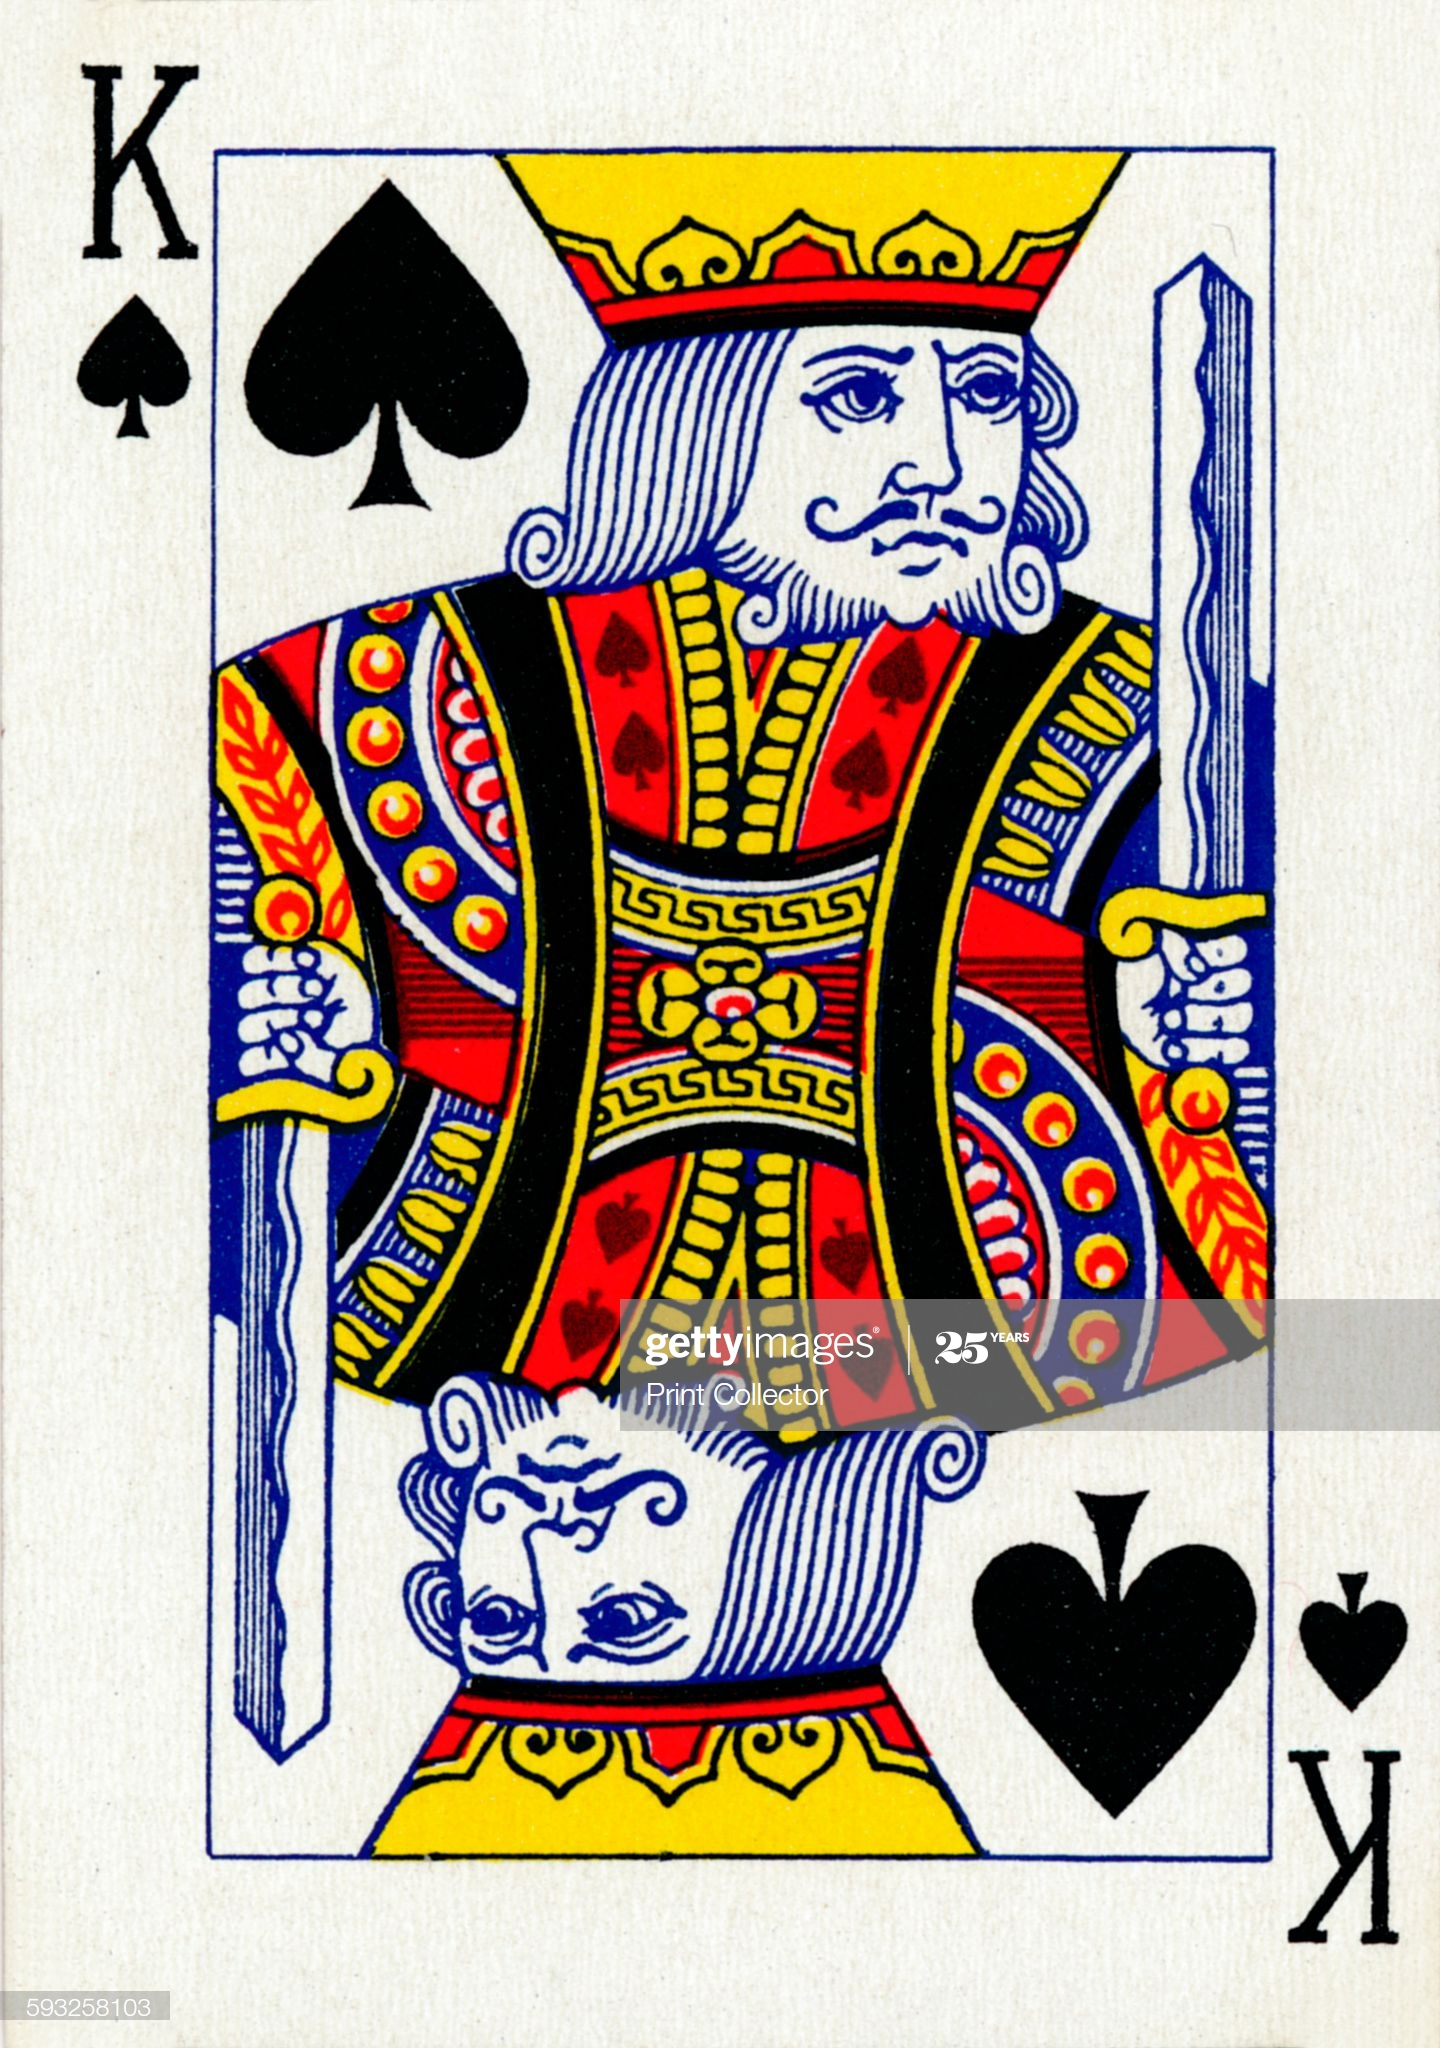king of spades: (29, 6, 1432, 1981)
